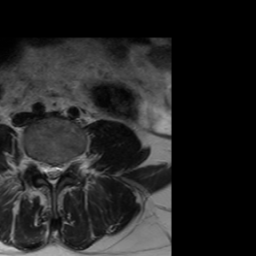CCS_normal: (49, 156, 56, 194)
LFS_normal: (64, 150, 71, 177)
LLS_normal: (56, 154, 64, 184)
RFS_stenosis: (32, 149, 41, 176)
RLS_normal: (40, 152, 49, 186)
